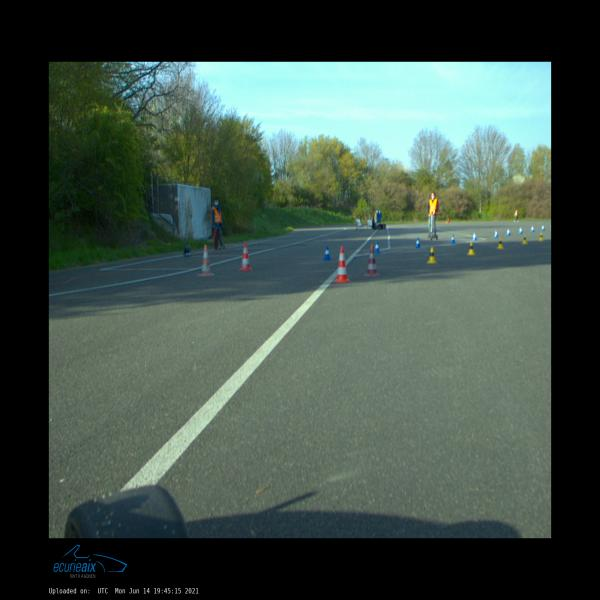blue_cone: (323, 247, 331, 260), (374, 241, 380, 253), (450, 234, 456, 244), (415, 238, 421, 247), (494, 230, 498, 238), (518, 227, 522, 234), (541, 225, 545, 231), (473, 232, 476, 240), (530, 226, 534, 232), (507, 229, 510, 236)
large_orange_cone: (333, 247, 351, 282), (364, 244, 380, 276), (198, 245, 213, 276), (238, 242, 254, 271)
yellow_cone: (427, 247, 436, 263), (467, 241, 475, 255), (497, 238, 504, 248), (522, 234, 527, 245), (539, 232, 543, 242)
